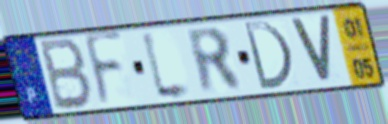B: (38, 36, 95, 113)
D: (240, 19, 296, 92)
F: (82, 28, 126, 112)
L: (138, 26, 197, 104)
R: (183, 26, 247, 98)
V: (287, 14, 334, 86)
